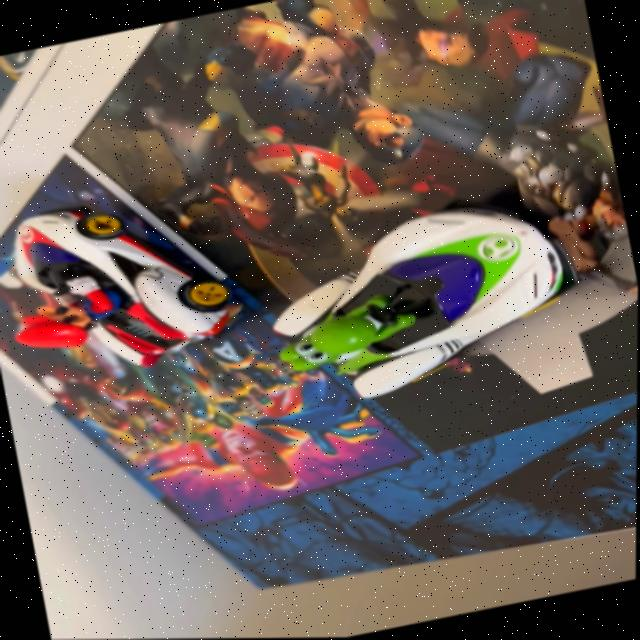mario: (0, 170, 264, 403)
yoshi: (243, 180, 607, 429)
